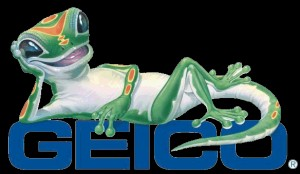Geico: (6, 117, 291, 169)
